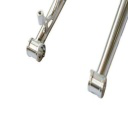Fork: (27, 1, 128, 105)
